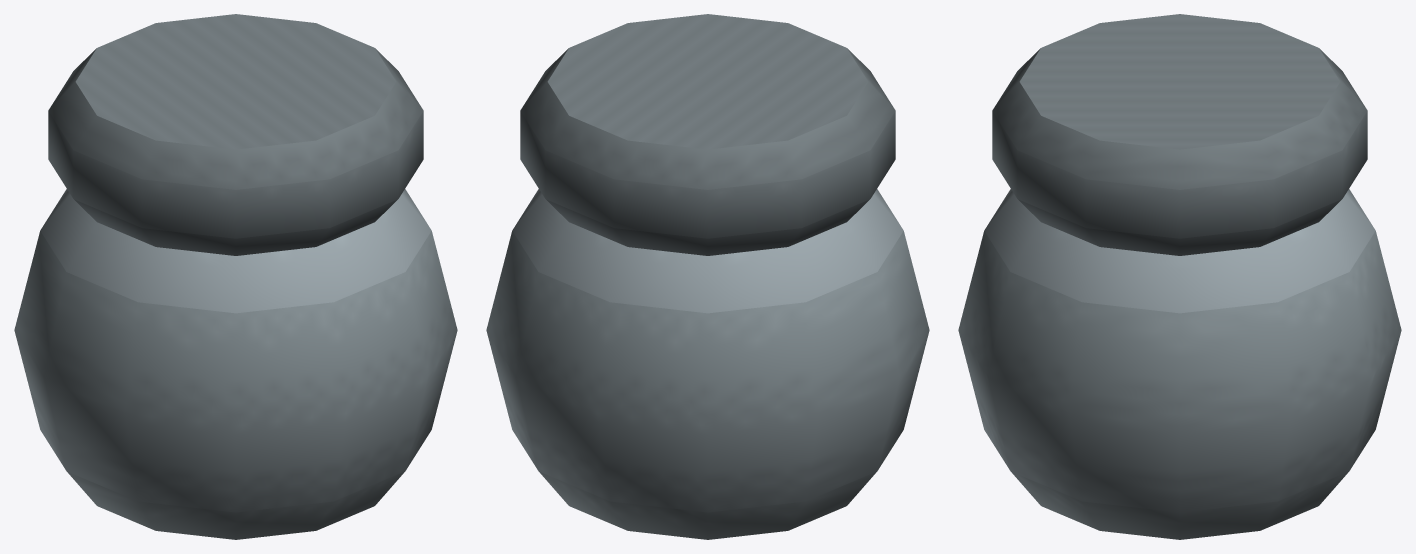
Rendered from jar_B_small.gltf.
3 views of the same model, side by side, from view 1: azimuth 30°, elevation 25°; view 2: azimuth 150°, elevation 25°; view 3: azimuth 270°, elevation 25° (orthographic).
Parts seen in each view (by area): view 1: jar_B_small; view 2: jar_B_small; view 3: jar_B_small.
Part boxes in pixels (<box>): jar_B_small: <box>14,14,457,539</box>; jar_B_small: <box>486,14,929,539</box>; jar_B_small: <box>958,14,1401,539</box>.
Size of the model in its own units: 0.566 by 0.55 by 0.566.
Materials: 1 (1 with a texture image).
